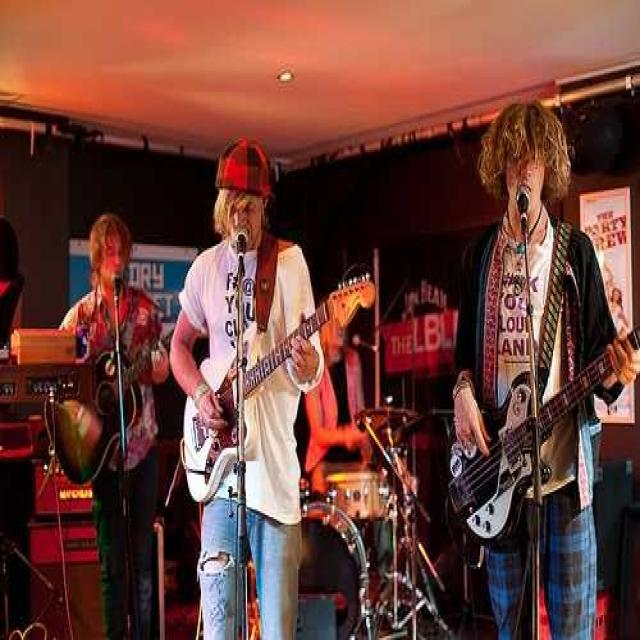microphone: (232, 228, 250, 284), (516, 186, 531, 240), (112, 272, 124, 314)
